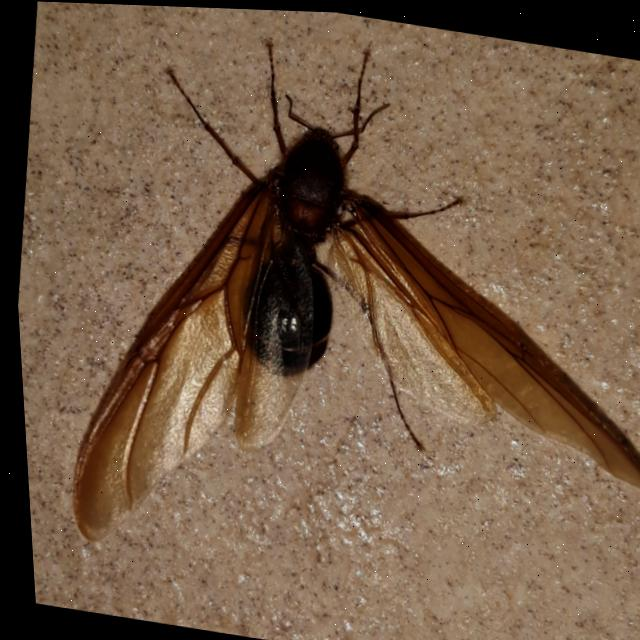Alive-Male-Alate: (38, 1, 640, 624)
